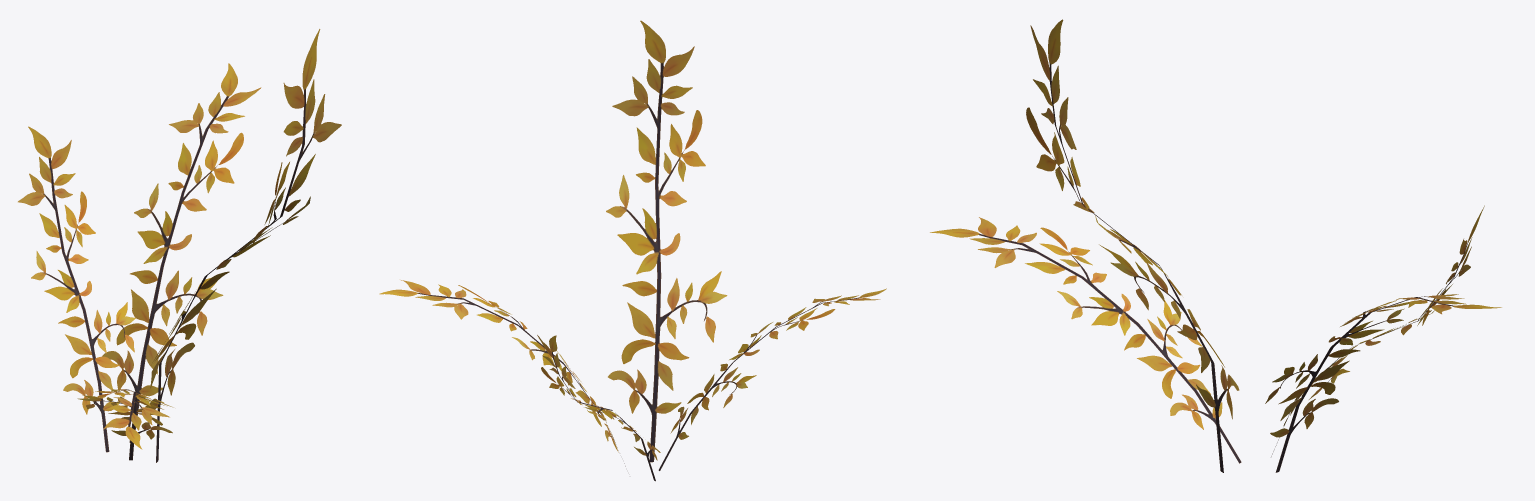
File: bush5.fbx
3 renders of one model, left to right at view 1: azimuth 30°, elevation 25°; view 2: azimuth 150°, elevation 25°; view 3: azimuth 270°, elevation 25°, orthographic. The views are drawn at different scales.
Visible parts, largest first — view 1: bush5; view 2: bush5; view 3: bush5.
Part boxes in pixels (bbox=[...]): bush5: bbox=[18, 29, 341, 462]; bush5: bbox=[379, 20, 886, 481]; bush5: bbox=[930, 19, 1501, 472].
Bounding box in the file's own units: 293 × 345 × 374.
